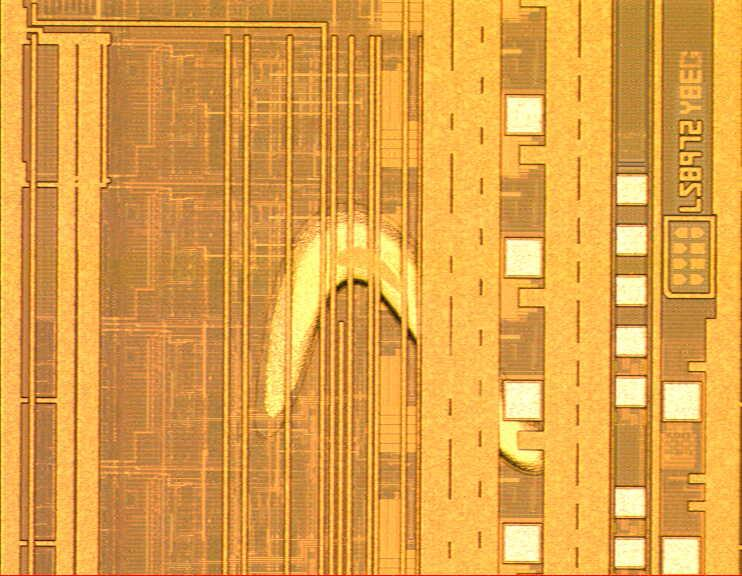COATING BAD: (234, 199, 580, 488)
